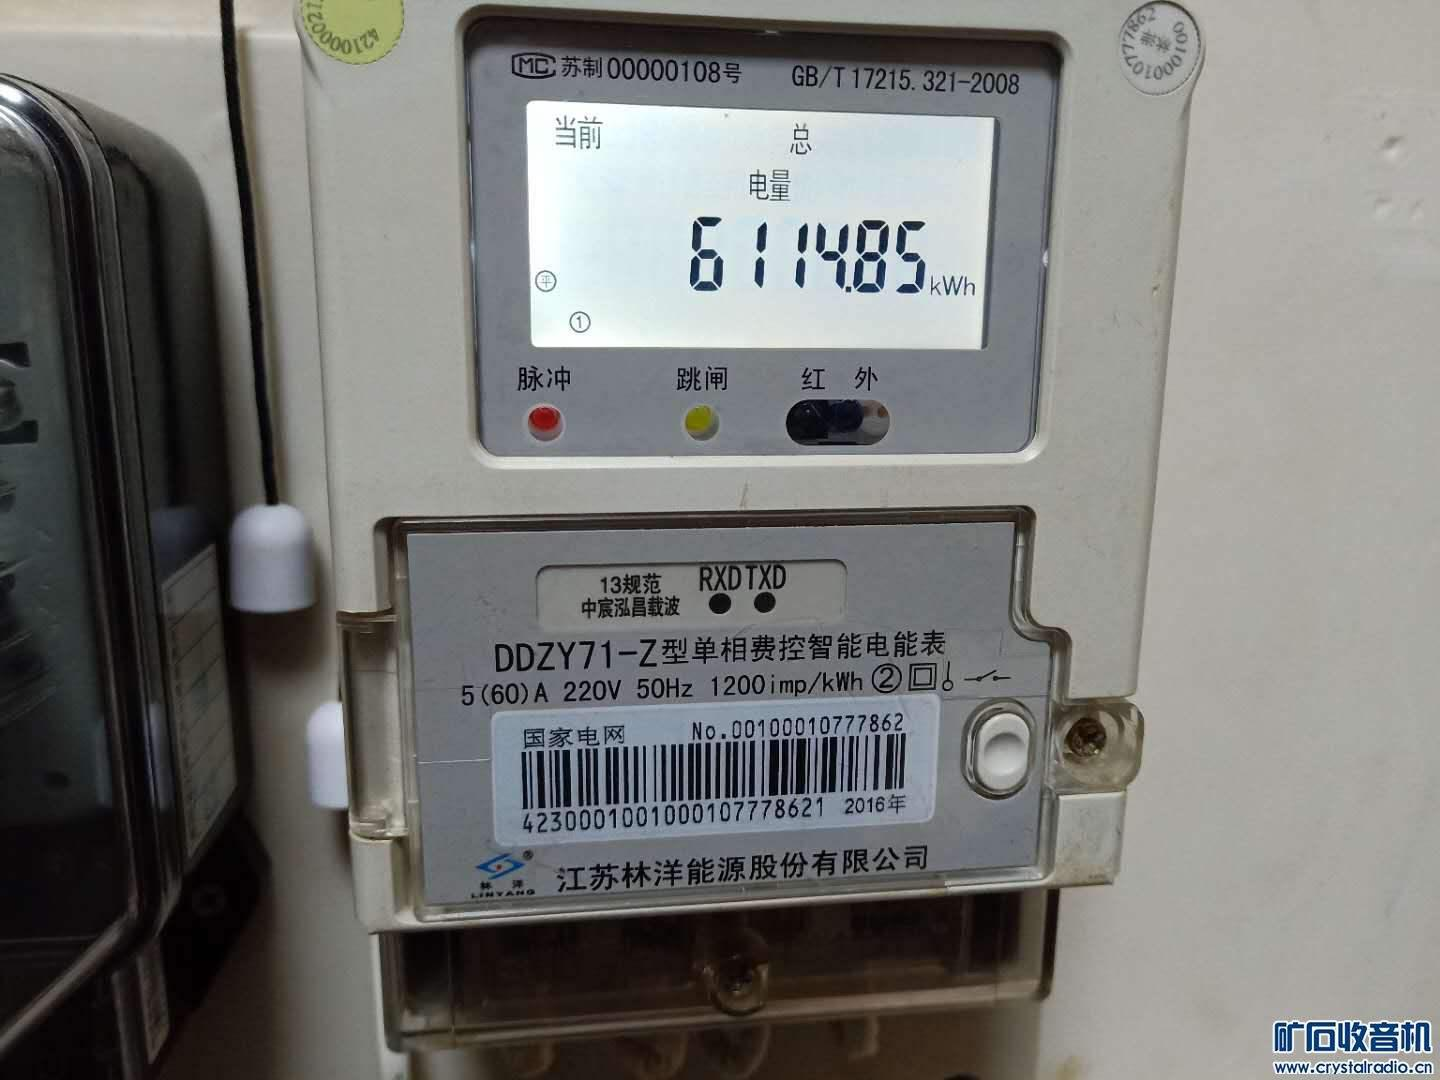digital: (299, 1, 1198, 934)
